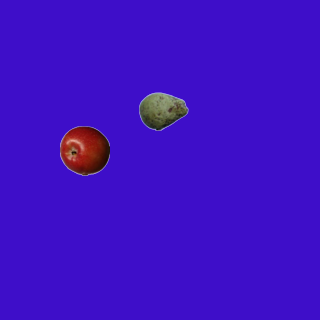Apple Braeburn: (59, 125, 109, 175)
Pear Stone: (138, 86, 188, 136)
